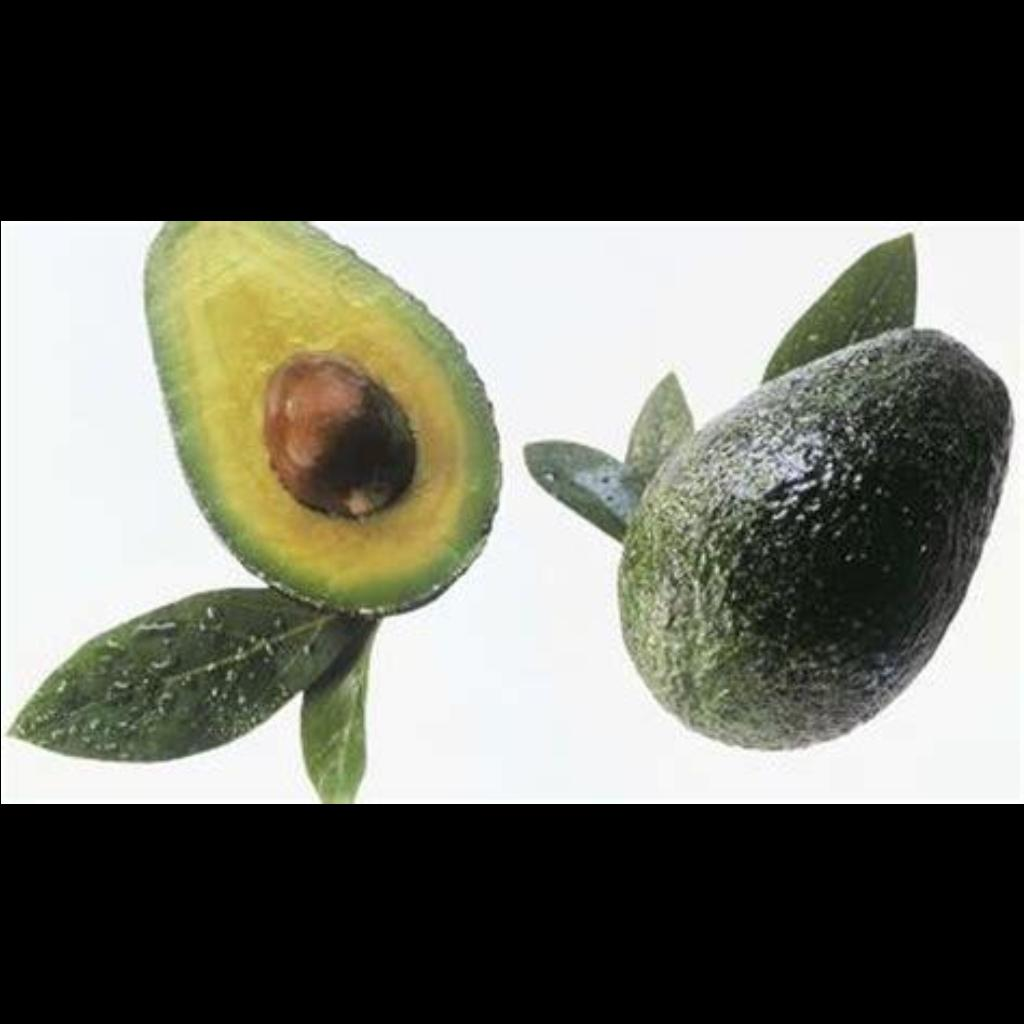cercospora_spot: (642, 339, 1010, 719)
